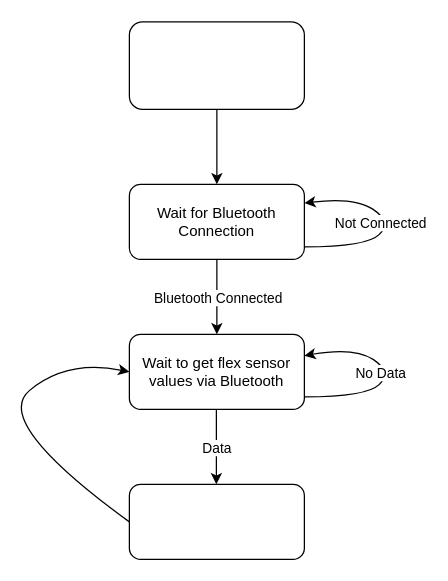
The diagram is 448 pixels wide and 581 high, and some of its shapes have lost their labels. Each missing label, with the centre of its shape:
"Map Flex value to correct Servo Angle and set servos to correct states" belongs at (216,521).
"Turn Device On" belongs at (216,65).
